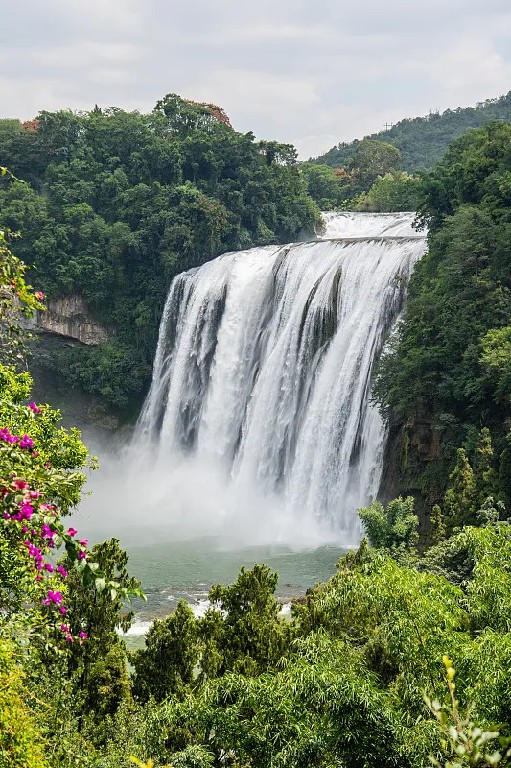Huangguoshu: (140, 212, 429, 541)
